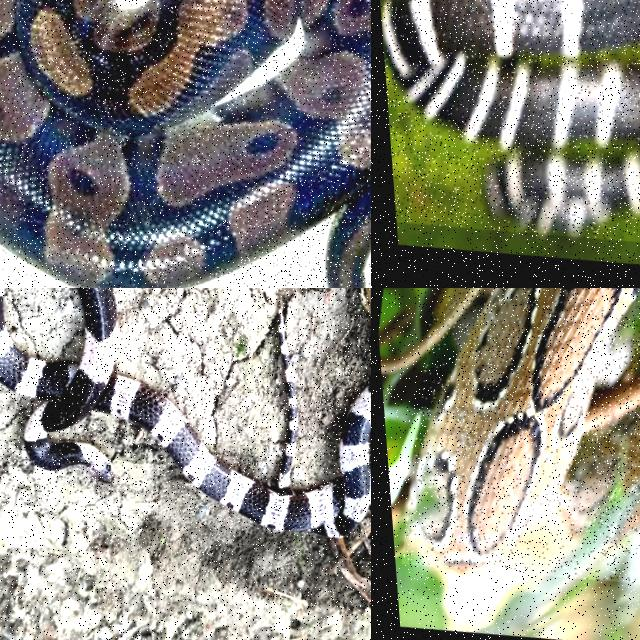Bungarus candidus: (0, 288, 370, 536), (381, 0, 639, 148)
Daboia siamensis: (408, 288, 639, 569)
Python bivittatus: (0, 0, 370, 287)
